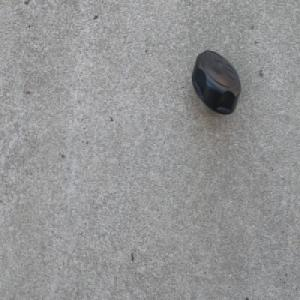FuelCap: (189, 49, 242, 119)
